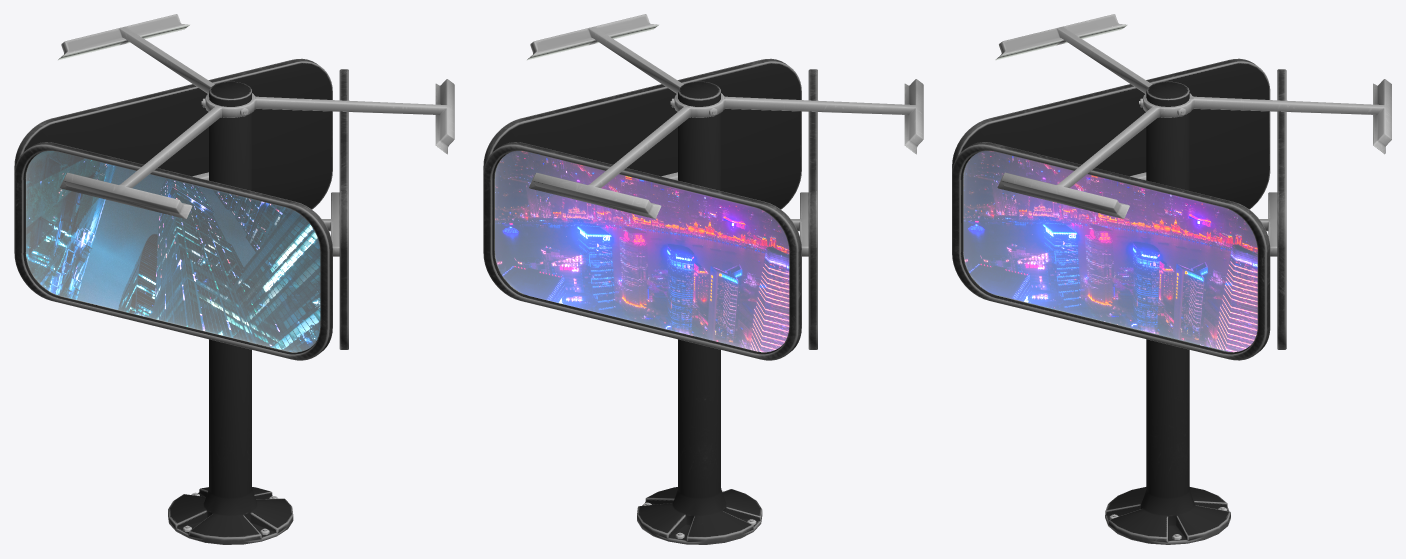
The model's file is SM_Pannel3Hor.fbx.
3 views of the same model, side by side, from view 1: azimuth 30°, elevation 25°; view 2: azimuth 150°, elevation 25°; view 3: azimuth 270°, elevation 25° (orthographic).
Visible parts, largest first — view 1: SM_Pannel3Hor_LOD0; view 2: SM_Pannel3Hor_LOD0; view 3: SM_Pannel3Hor_LOD0.
Boxes of the visible parts, x1,y1,x2,y2 form: SM_Pannel3Hor_LOD0: [14, 14, 454, 544]; SM_Pannel3Hor_LOD0: [483, 14, 923, 544]; SM_Pannel3Hor_LOD0: [952, 14, 1391, 544].
Bounding box in the file's own units: 245 × 238 × 256.
2 materials, 1 textured.
